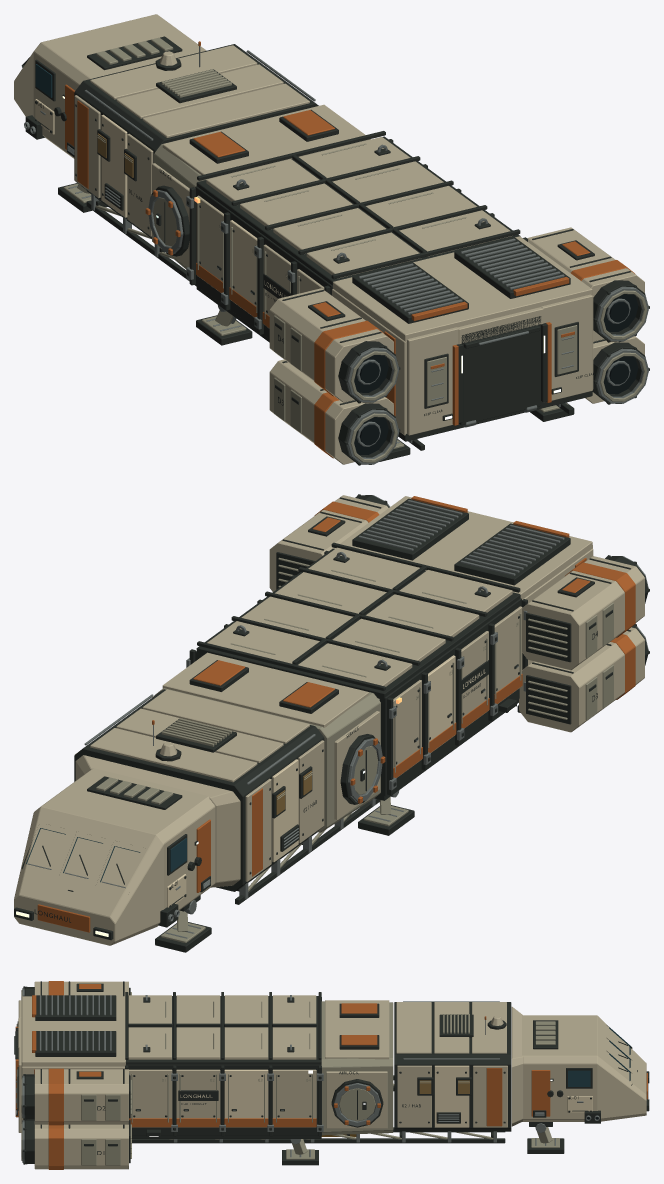
Rendered from longhaul_v2.glb.
3 views of the same model, one above another, from view 1: azimuth 30°, elevation 25°; view 2: azimuth 150°, elevation 25°; view 3: azimuth 270°, elevation 25° (orthographic). The views are drawn at different scales.
Visible parts, largest first — view 1: 04 Cargo shell / ivory.001, 05 Engineering / ivory.001, 02 Living hab / ivory.001, 04 Cargo shell / dark.001, 06 Engines / ivory.001, 05 Engineering / dark.001, 01 Flight deck / ivory.001, 10 Cargo ramp / dark.001, 03 Service and airlock / ivory.001, 05 Engineering / metal.001, 06 Engines / dark.001, 02 Living hab / dark.001 (+23 smaller); view 2: 01 Flight deck / ivory.001, 04 Cargo shell / ivory.001, 04 Cargo shell / dark.001, 02 Living hab / ivory.001, 06 Engines / ivory.001, 03 Service and airlock / ivory.001, 02 Living hab / dark.001, 06 Engines / dark.001, 05 Engineering / dark.001, 05 Engineering / ivory.001, 05 Engineering / metal.001, 03 Service and airlock / shade.001 (+20 smaller); view 3: 04 Cargo shell / ivory.001, 01 Flight deck / ivory.001, 04 Cargo shell / dark.001, 02 Living hab / ivory.001, 06 Engines / ivory.001, 02 Living hab / dark.001, 03 Service and airlock / ivory.001, 05 Engineering / ivory.001, 05 Engineering / dark.001, 03 Service and airlock / shade.001, 07 Underframe / dark.001, 04 Cargo shell / light.001 (+25 smaller).
Boxes of the visible parts, box(x1,y1,x2,y2) form: 04 Cargo shell / ivory.001: box(196, 137, 512, 328); 05 Engineering / ivory.001: box(332, 236, 593, 435); 02 Living hab / ivory.001: box(74, 45, 309, 236); 04 Cargo shell / dark.001: box(187, 131, 527, 342); 06 Engines / ivory.001: box(269, 227, 644, 464); 05 Engineering / dark.001: box(352, 237, 592, 441); 01 Flight deck / ivory.001: box(14, 14, 206, 158); 10 Cargo ramp / dark.001: box(459, 316, 541, 425); 03 Service and airlock / ivory.001: box(152, 104, 368, 267); 05 Engineering / metal.001: box(358, 238, 573, 400); 06 Engines / dark.001: box(275, 229, 649, 465); 02 Living hab / dark.001: box(74, 44, 318, 237); 01 Flight deck / ivory.001: box(14, 755, 240, 945); 04 Cargo shell / ivory.001: box(207, 547, 522, 777); 04 Cargo shell / dark.001: box(189, 542, 527, 800); 02 Living hab / ivory.001: box(75, 689, 324, 881); 06 Engines / ivory.001: box(269, 495, 644, 732); 03 Service and airlock / ivory.001: box(152, 652, 379, 820); 02 Living hab / dark.001: box(74, 689, 324, 891); 06 Engines / dark.001: box(276, 494, 649, 724); 05 Engineering / dark.001: box(352, 498, 570, 585); 05 Engineering / ivory.001: box(334, 496, 593, 664); 05 Engineering / metal.001: box(358, 500, 564, 575); 03 Service and airlock / shade.001: box(154, 658, 380, 832); 04 Cargo shell / ivory.001: box(128, 995, 316, 1127); 01 Flight deck / ivory.001: box(511, 1007, 646, 1126); 04 Cargo shell / dark.001: box(125, 992, 321, 1138); 02 Living hab / ivory.001: box(396, 1002, 507, 1127); 06 Engines / ivory.001: box(34, 981, 128, 1169); 02 Living hab / dark.001: box(394, 1002, 511, 1131); 03 Service and airlock / ivory.001: box(325, 1000, 389, 1128); 05 Engineering / ivory.001: box(18, 996, 125, 1132); 05 Engineering / dark.001: box(15, 995, 116, 1115); 03 Service and airlock / shade.001: box(321, 1001, 393, 1135); 07 Underframe / dark.001: box(132, 1075, 600, 1143); 04 Cargo shell / light.001: box(224, 1069, 268, 1127).
Bounding box in the file's own units: 10.88 × 5.66 × 26.46.
